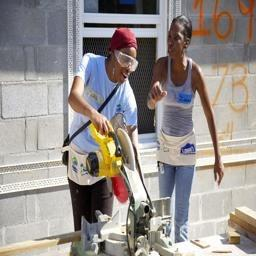no hat: (162, 8, 206, 50), (102, 26, 142, 65)
no vest: (148, 51, 216, 200), (73, 52, 137, 201)
